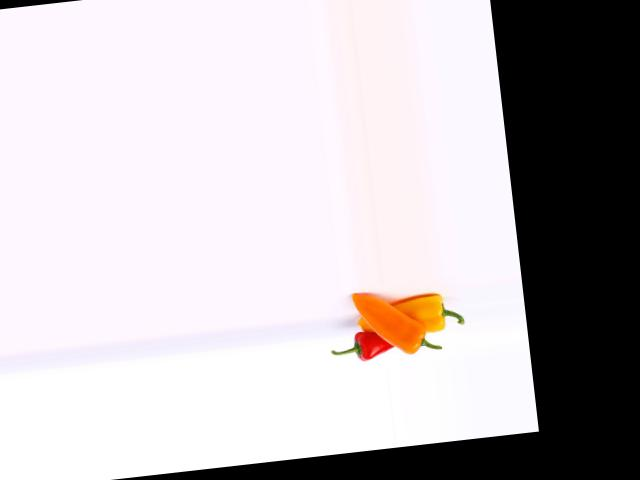bell_pepper: (381, 282, 468, 341)
